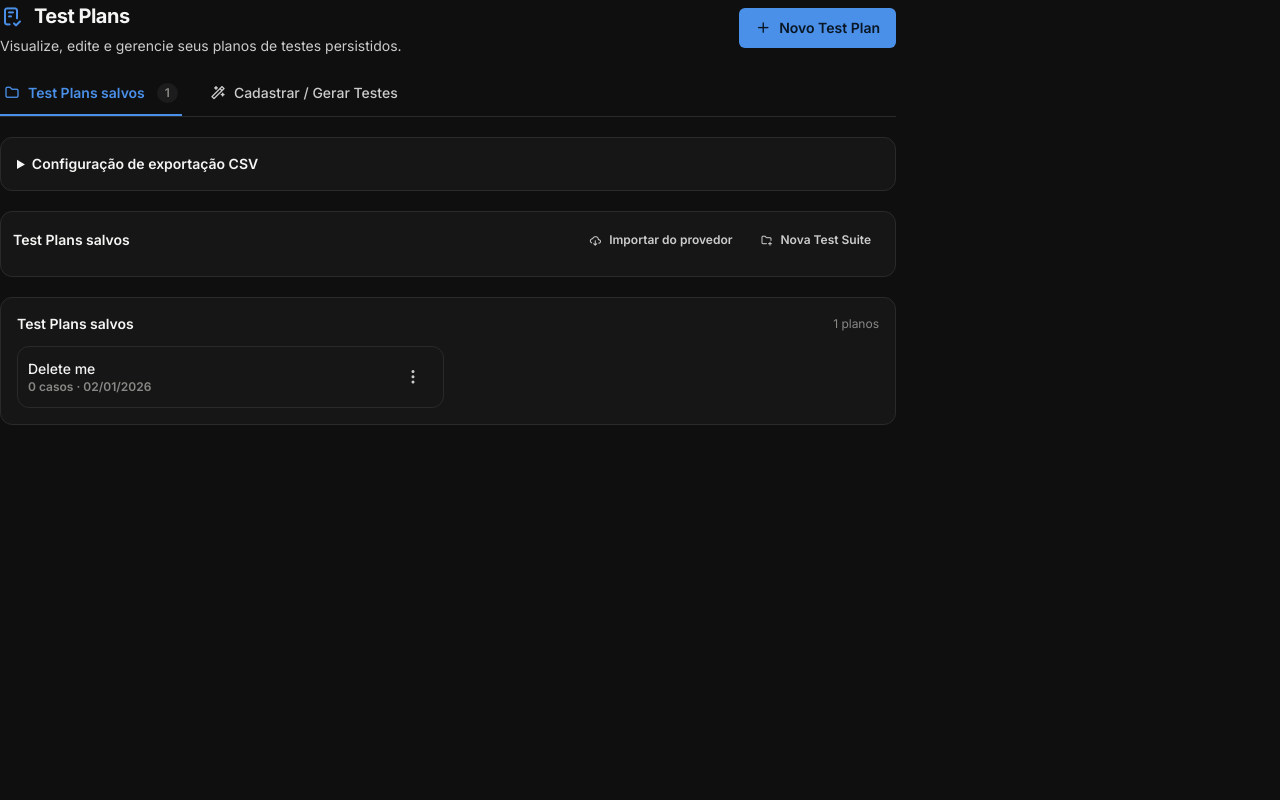
Test: TestPlansView › deletes a persisted plan and reloads the current page
Click the button named "Ações: Delete me" at (413,377), box [393,357,433,397]
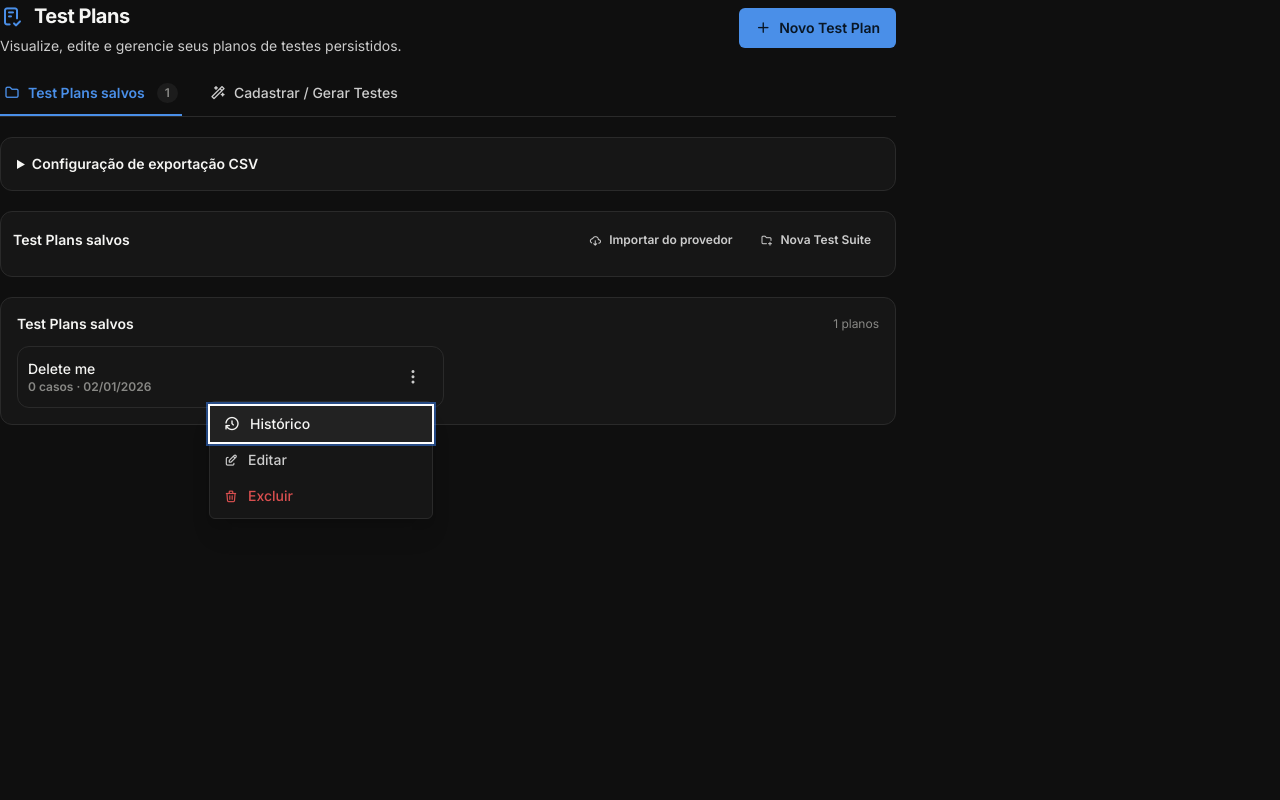
Click the button with aria-label "Excluir Test Plan Delete me" at (321,496), box [210,478,432,514]
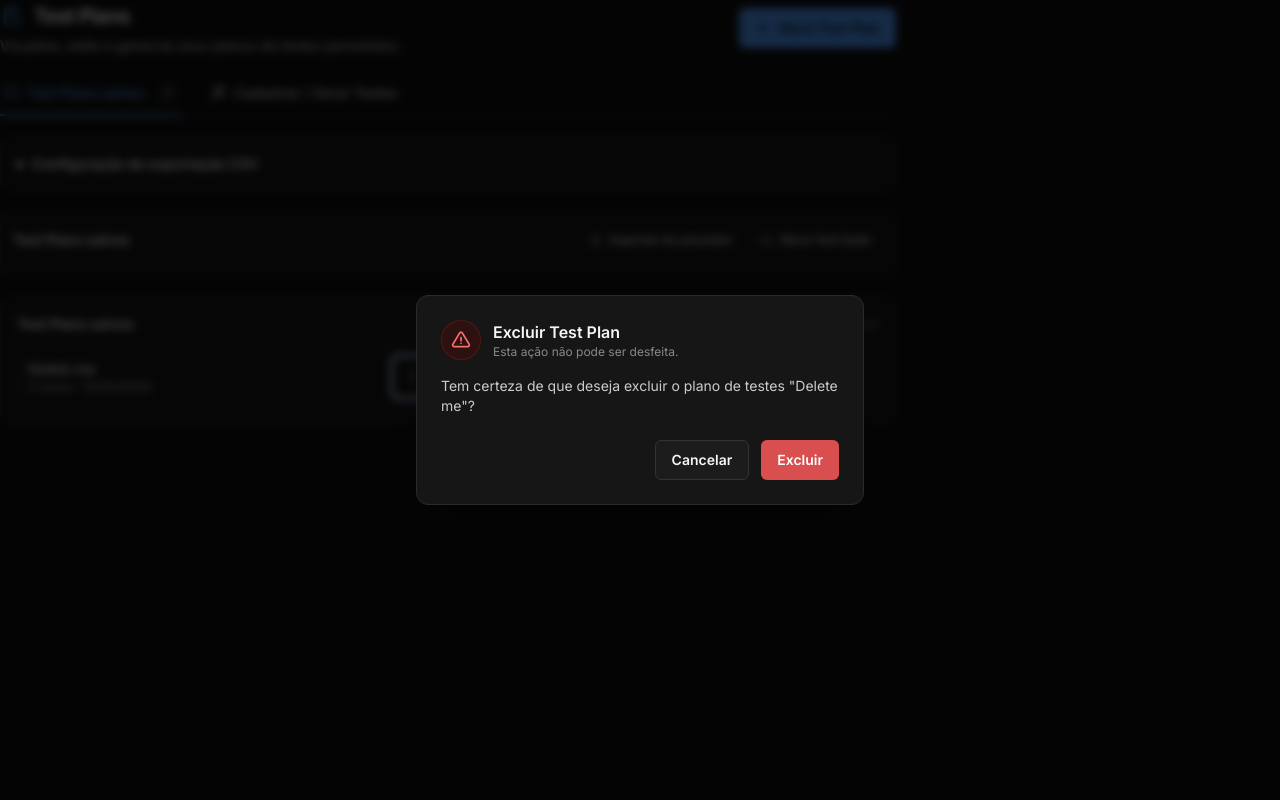
Click the button with test id "confirm-delete-plan-btn" at (800,460), box [761,440,839,480]
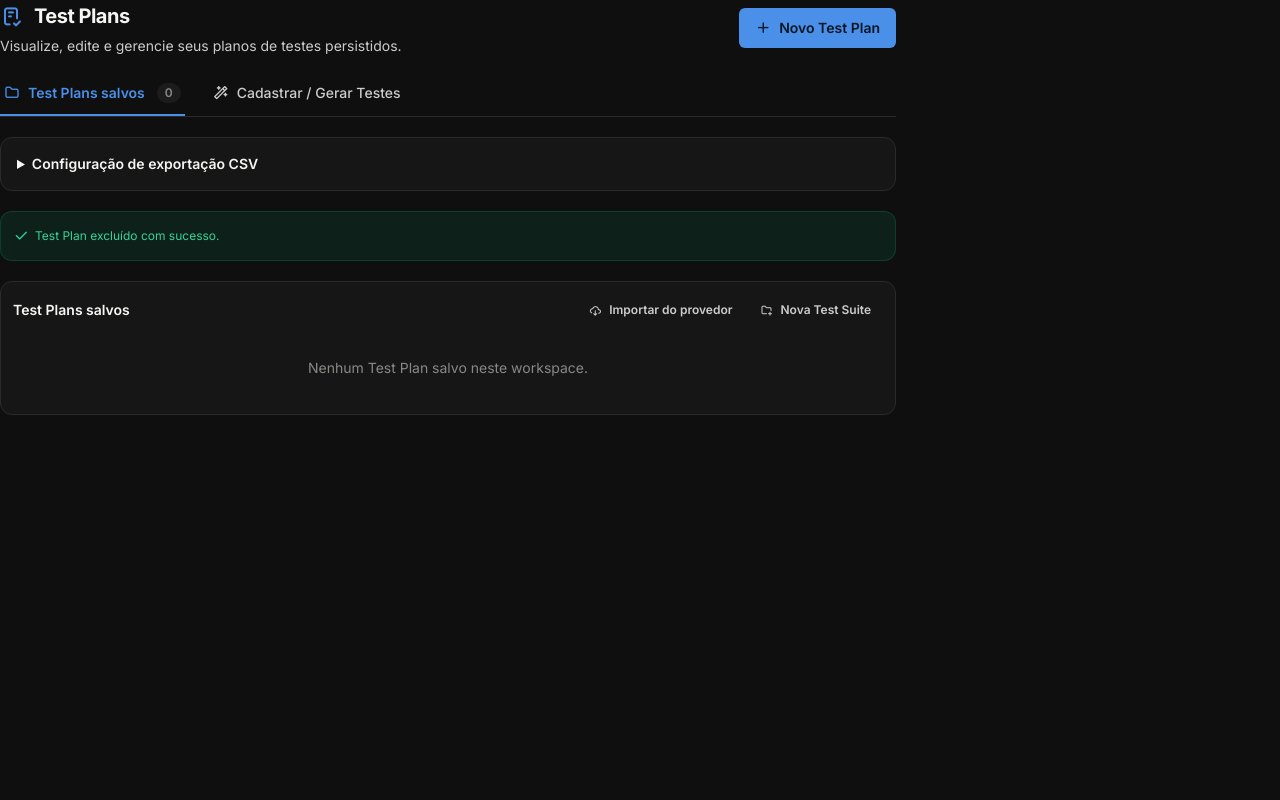
Result: the text "Nenhum Test Plan salvo neste workspace." is shown at [308,359,588,376]
